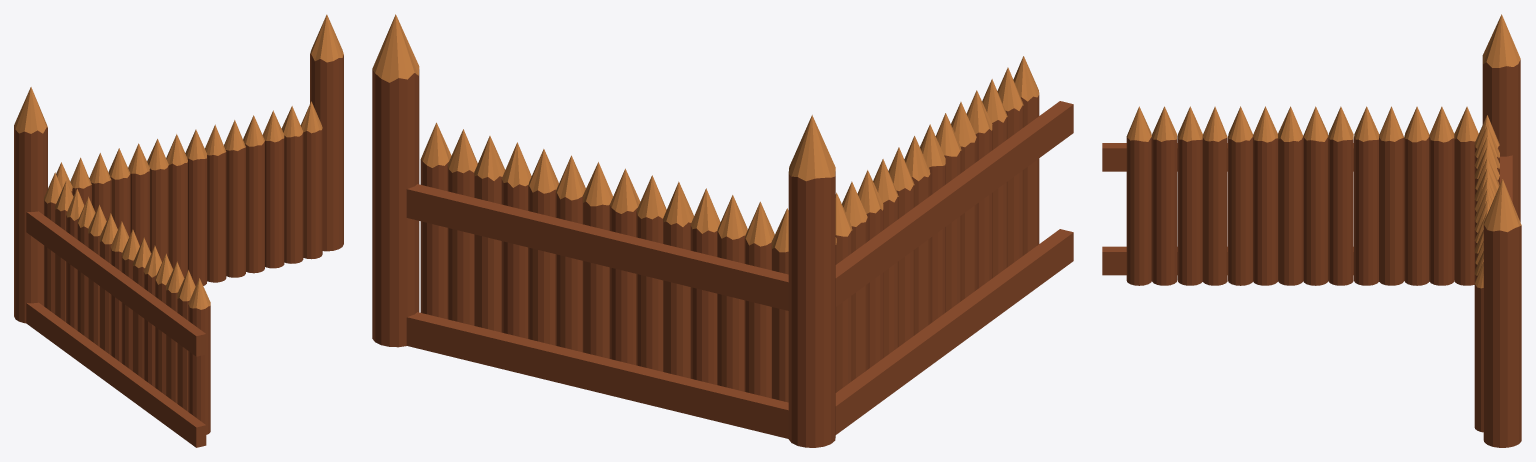
File: wooden_fence_corner.fbx
3 views of the same model, side by side, from view 1: azimuth 30°, elevation 25°; view 2: azimuth 150°, elevation 25°; view 3: azimuth 270°, elevation 25° (orthographic). The views are drawn at different scales.
Visible parts, largest first — view 1: Cylinder.002; view 2: Cylinder.002; view 3: Cylinder.002.
Part boxes in pixels (<box>): Cylinder.002: <box>14,14,343,447</box>; Cylinder.002: <box>372,14,1073,447</box>; Cylinder.002: <box>1102,14,1521,447</box>.
Bounding box in the file's own units: 665 × 450 × 654.
